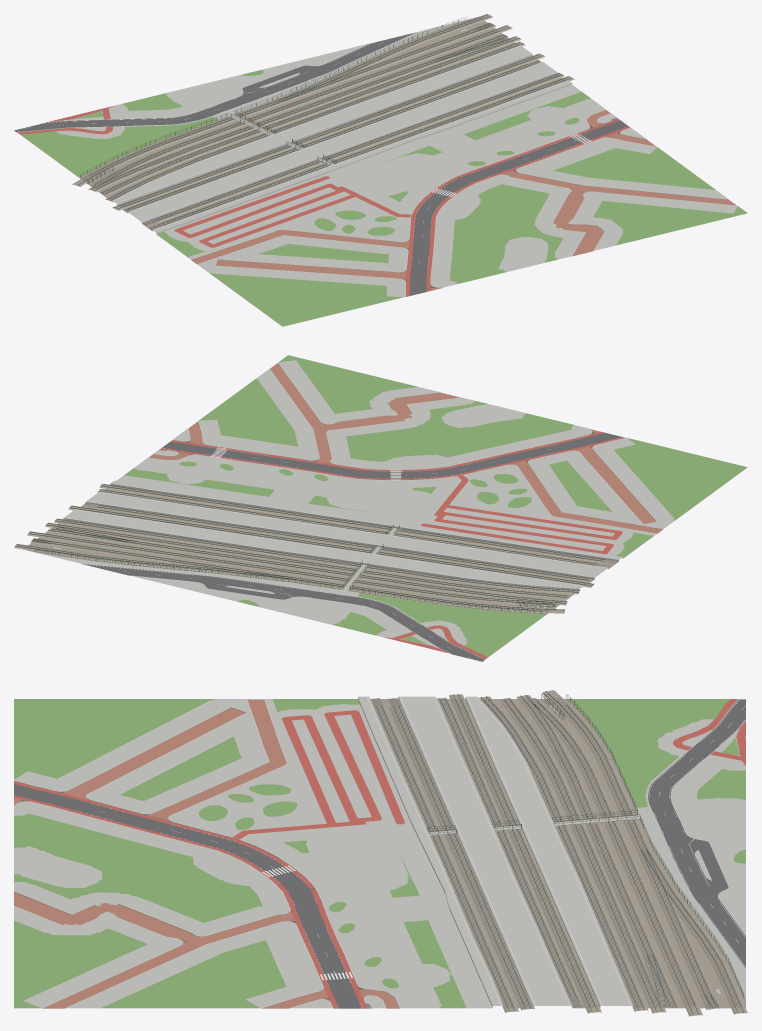
The model's file is ground_6_6.glb.
3 views of the same model, one above another, from view 1: azimuth 30°, elevation 25°; view 2: azimuth 150°, elevation 25°; view 3: azimuth 270°, elevation 25° (orthographic). The views are drawn at different scales.
Visible parts, largest first — view 1: ground_6_6; view 2: ground_6_6; view 3: ground_6_6.
Part boxes in pixels (bbox=[...]): ground_6_6: bbox=[14, 14, 747, 326]; ground_6_6: bbox=[14, 355, 747, 661]; ground_6_6: bbox=[14, 690, 747, 1016].
Size of the model in its own units: 211 by 1.67 by 201.
